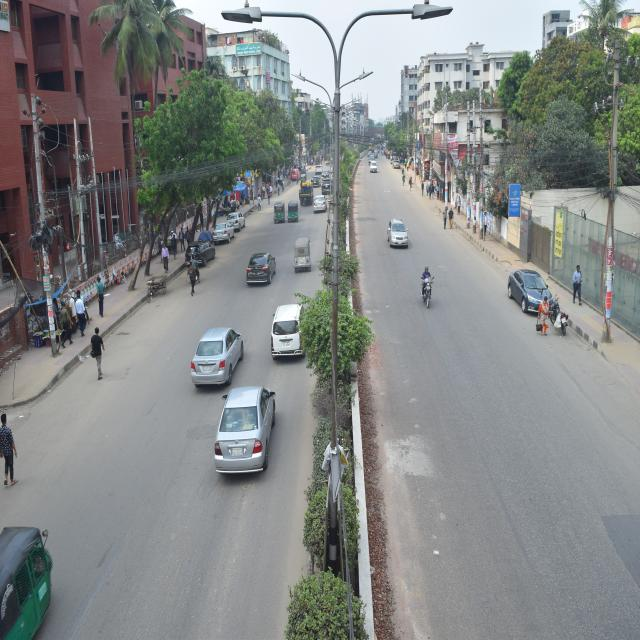car: (206, 383, 289, 484), (190, 316, 244, 392), (506, 258, 557, 322), (242, 246, 281, 290), (380, 212, 416, 254), (184, 235, 219, 274), (309, 191, 334, 220), (228, 203, 248, 234), (215, 220, 234, 246), (366, 156, 378, 174)
microbus: (265, 295, 311, 363)
motorbike: (412, 258, 446, 316), (547, 288, 579, 344)
